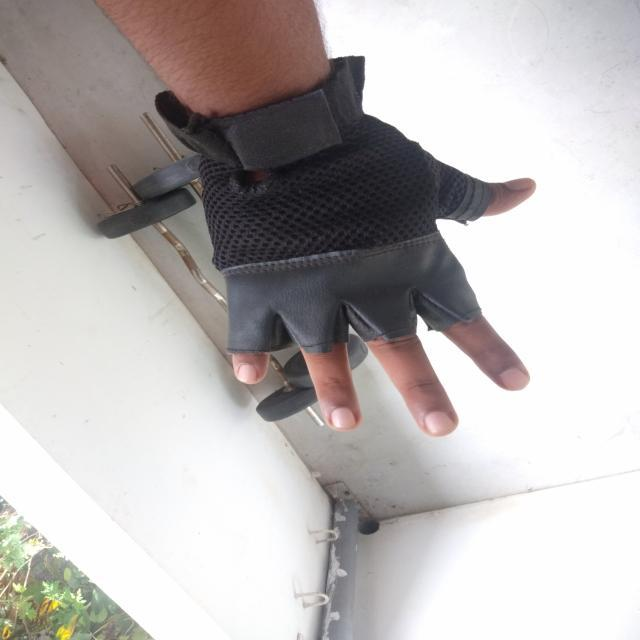gloved_hand: (141, 50, 512, 364)
